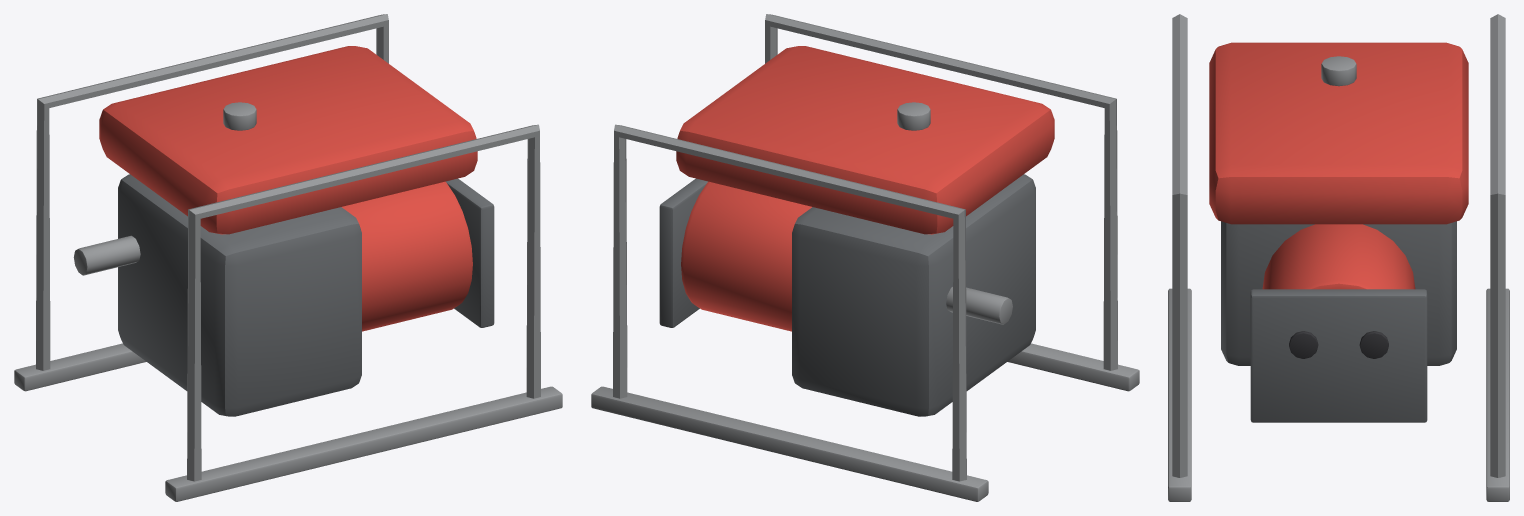
Rendered from EQP-PEQ-006_anim.glb.
3 renders of one model, left to right at view 1: azimuth 30°, elevation 25°; view 2: azimuth 150°, elevation 25°; view 3: azimuth 270°, elevation 25°, orthographic. The views are drawn at different scales.
Visible parts, largest first — view 1: EQP-PEQ-006_anim0, EQP-PEQ-006_anim1; view 2: EQP-PEQ-006_anim0, EQP-PEQ-006_anim1; view 3: EQP-PEQ-006_anim0, EQP-PEQ-006_anim1.
Part boxes in pixels (x1,y1,x2,y2): EQP-PEQ-006_anim0: (73,46,494,416); EQP-PEQ-006_anim1: (14,14,562,501); EQP-PEQ-006_anim0: (659,46,1054,416); EQP-PEQ-006_anim1: (591,14,1139,501); EQP-PEQ-006_anim0: (1209,42,1468,422); EQP-PEQ-006_anim1: (1168,14,1509,501).
Size of the model in its own units: 0.8 by 0.59 by 0.58.
